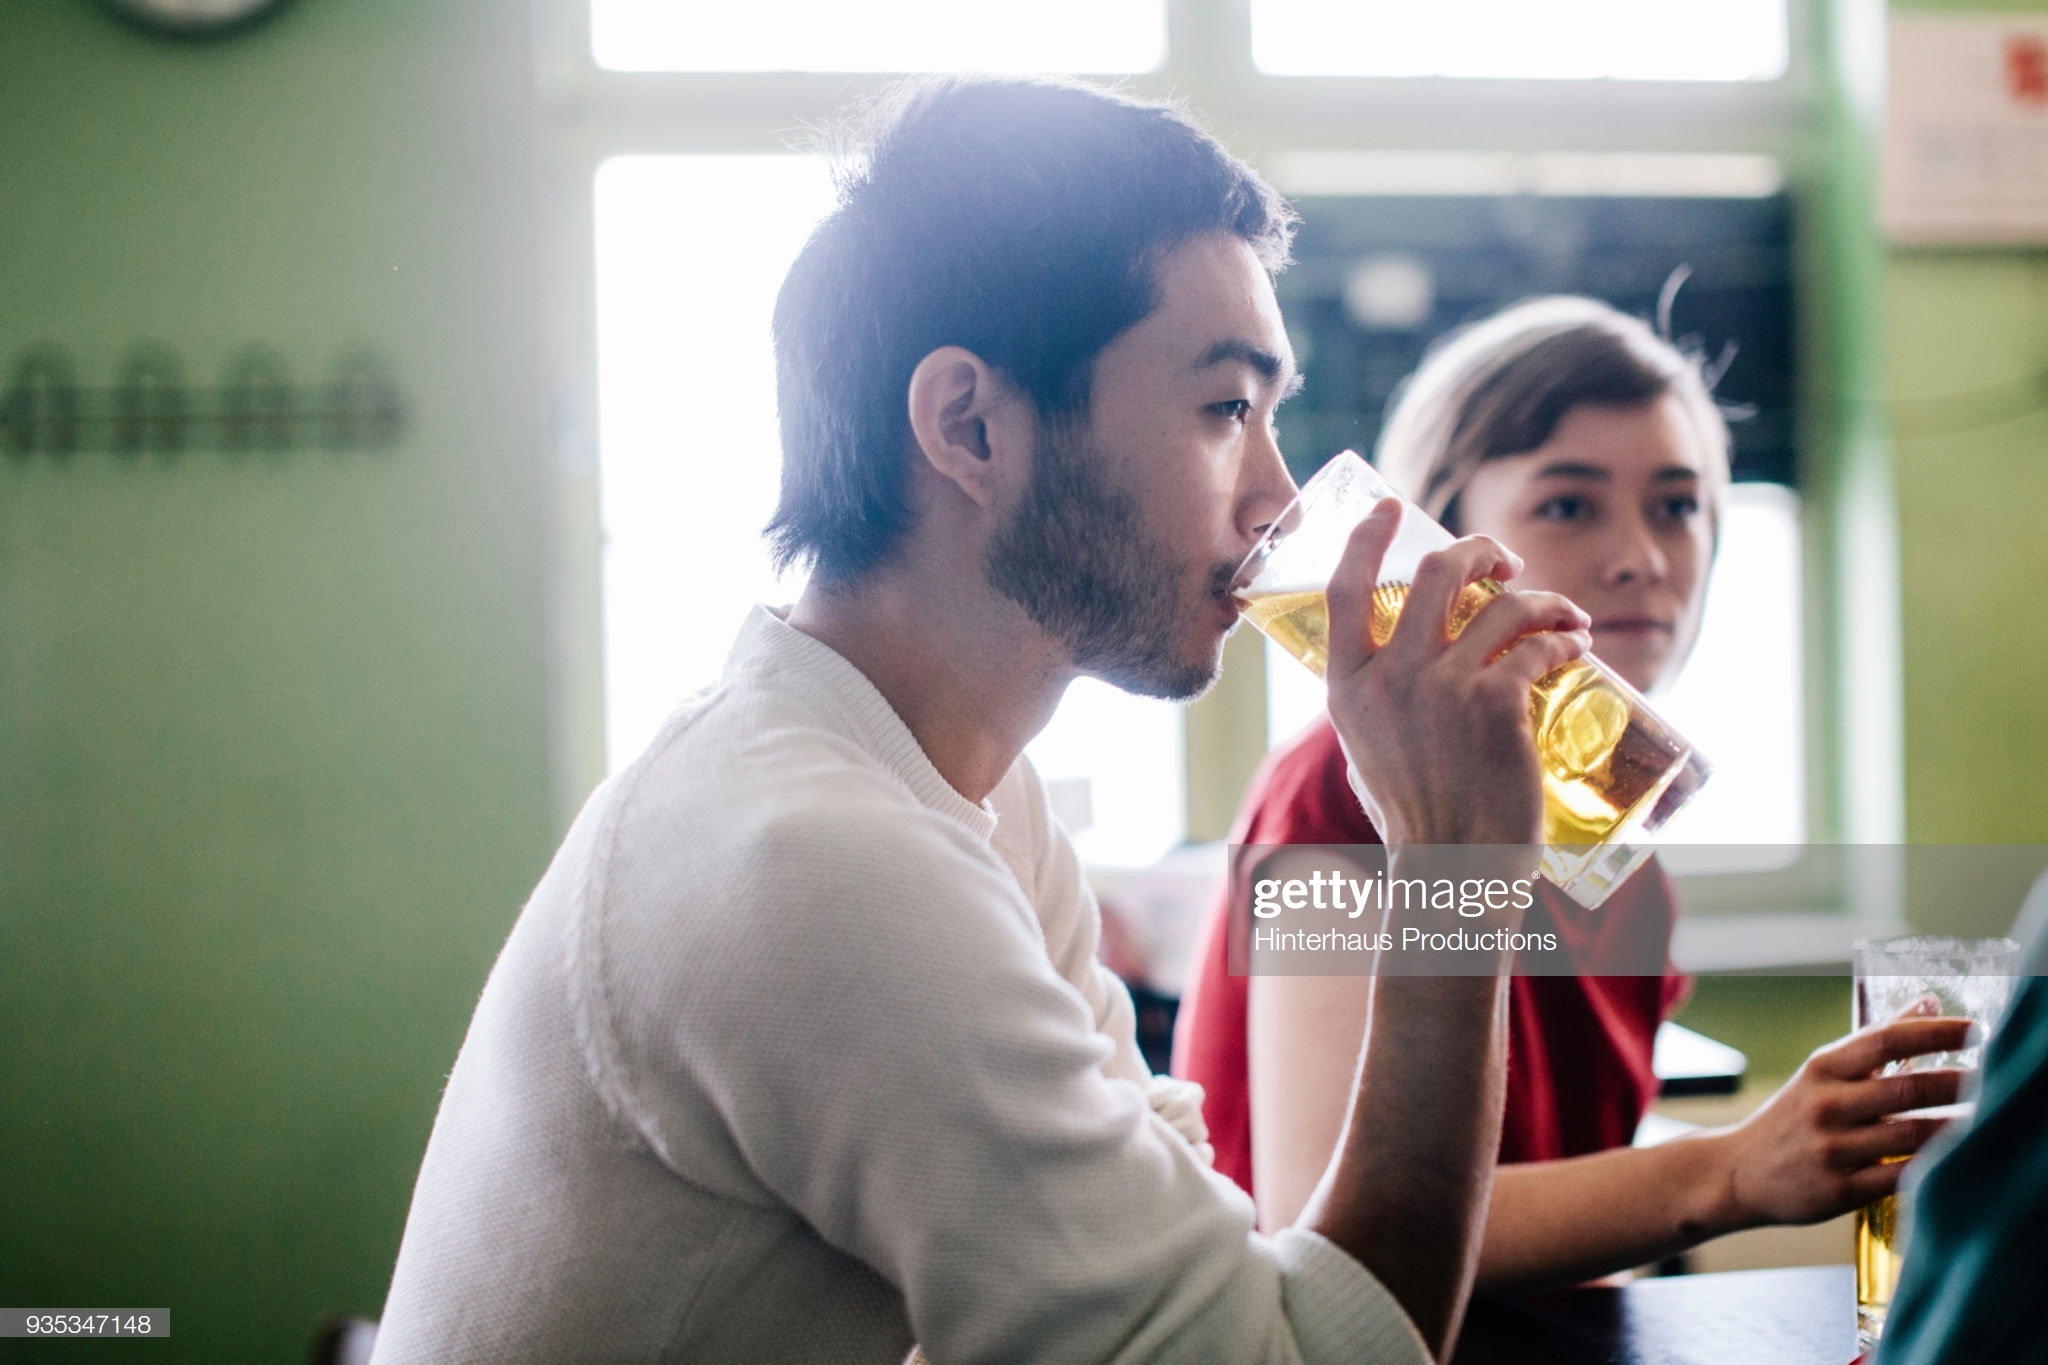glassBeer: (1227, 456, 1725, 894)
